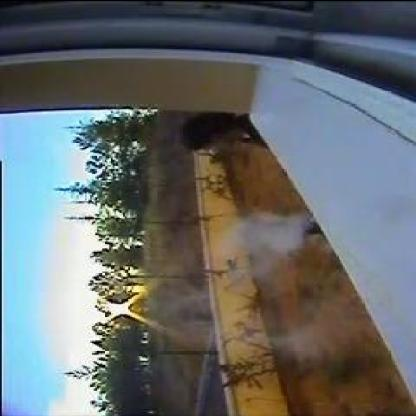-: (226, 214, 304, 268)
